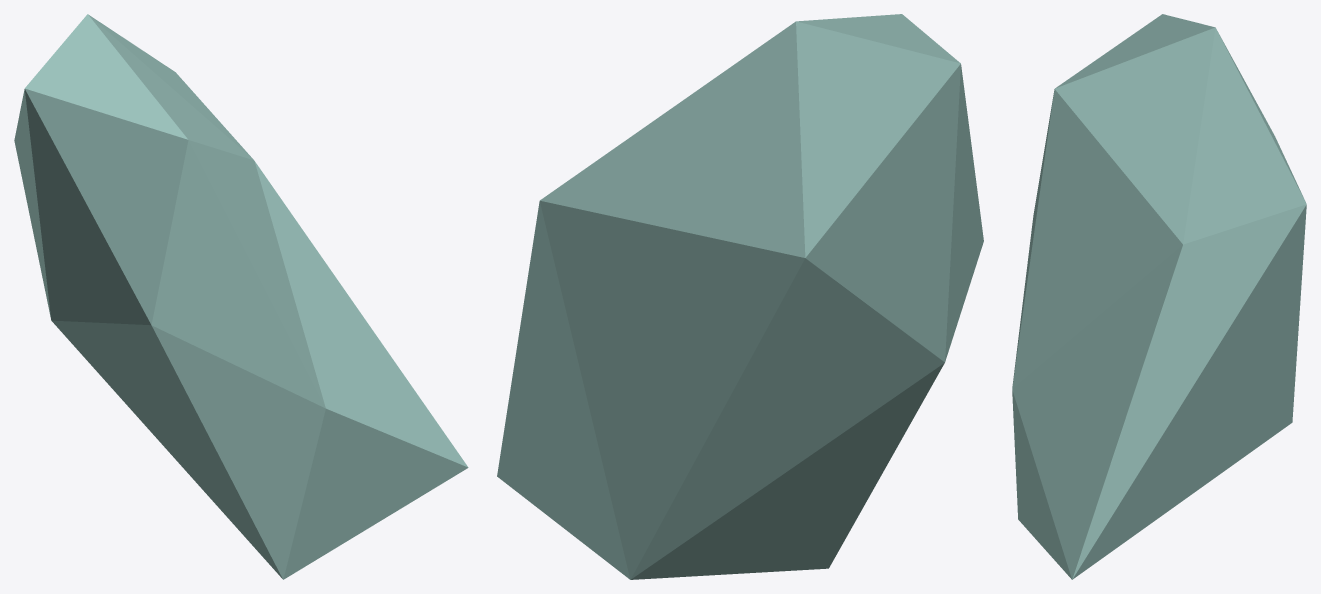
File: 240519_rock_medium_01.glb
3 views of the same model, side by side, from view 1: azimuth 30°, elevation 25°; view 2: azimuth 150°, elevation 25°; view 3: azimuth 270°, elevation 25° (orthographic). The views are drawn at different scales.
Visible parts, largest first — view 1: Icosphere.028; view 2: Icosphere.028; view 3: Icosphere.028.
Boxes of the visible parts, x1,y1,x2,y2 form: Icosphere.028: (14, 14, 468, 579); Icosphere.028: (497, 14, 983, 579); Icosphere.028: (1012, 14, 1306, 579).
Bounding box in the file's own units: 3.06 × 3.77 × 2.21.
